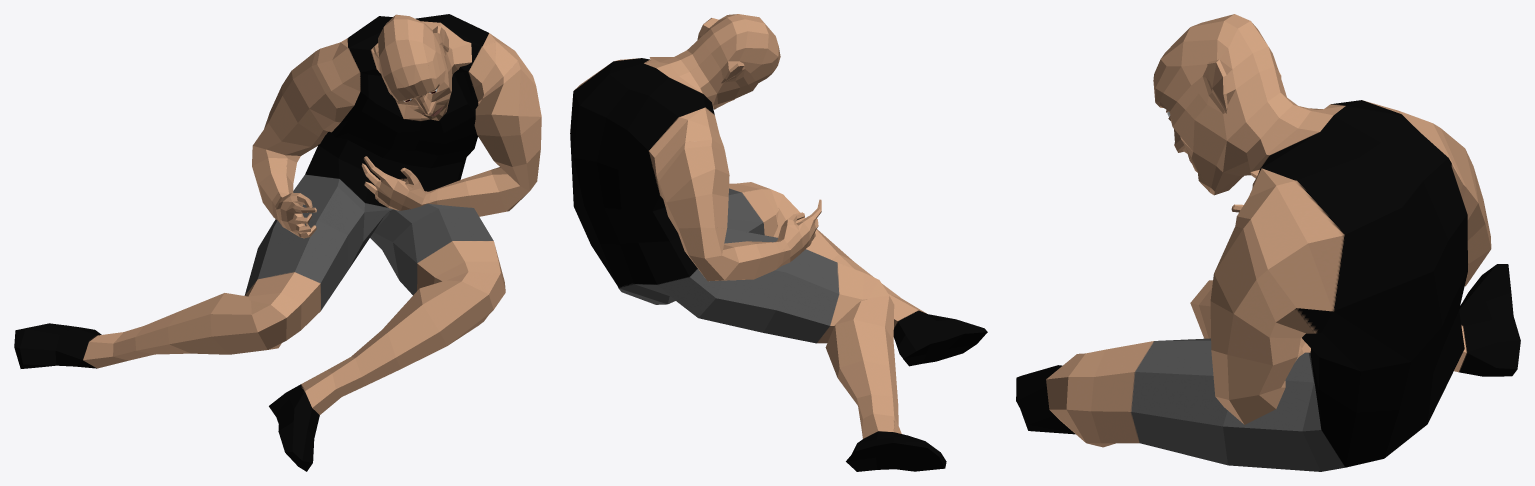
File: PlayerDead(39).obj
3 renders of one model, left to right at view 1: azimuth 30°, elevation 25°; view 2: azimuth 150°, elevation 25°; view 3: azimuth 270°, elevation 25°, orthographic. The views are drawn at different scales.
Parts seen in each view (by area): view 1: Plane002; view 2: Plane002; view 3: Plane002.
Boxes of the visible parts, left/top/right/bottom form: Plane002: left=14, top=14, right=541, bottom=471; Plane002: left=570, top=14, right=987, bottom=471; Plane002: left=1016, top=14, right=1520, bottom=471.
Size of the model in its own units: 1208 by 941 by 813.
